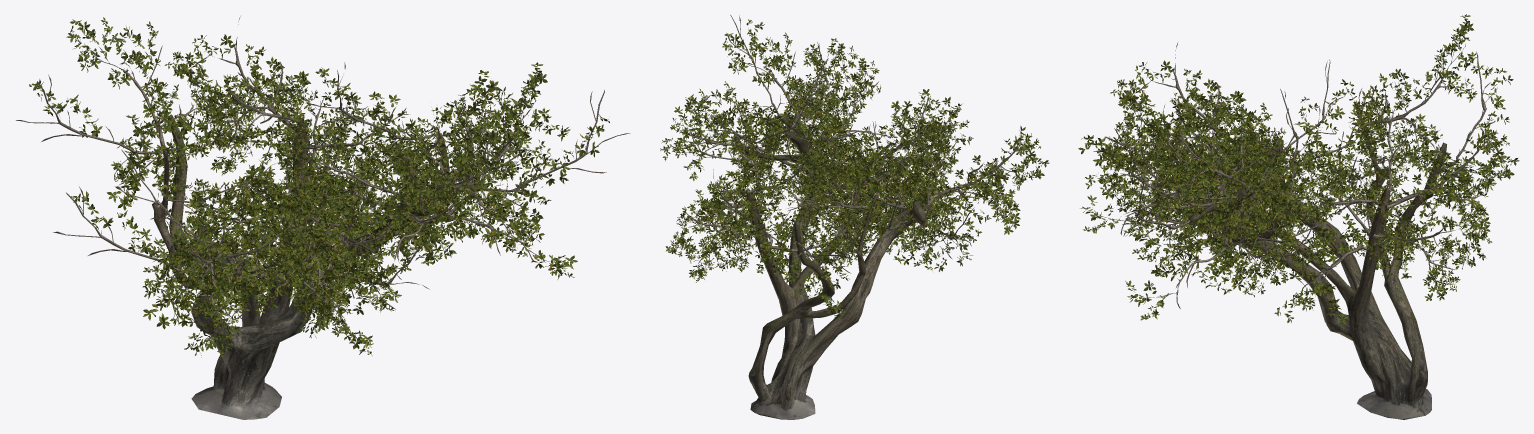
The model's file is island_tree_02_hero.glb.
3 views of the same model, side by side, from view 1: azimuth 30°, elevation 25°; view 2: azimuth 150°, elevation 25°; view 3: azimuth 270°, elevation 25° (orthographic). The views are drawn at different scales.
Visible parts, largest first — view 1: island_tree_02_LOD0; view 2: island_tree_02_LOD0; view 3: island_tree_02_LOD0.
Part boxes in pixels (x1,y1,x2,y2): island_tree_02_LOD0: [16, 16, 630, 419]; island_tree_02_LOD0: [660, 14, 1049, 419]; island_tree_02_LOD0: [1078, 14, 1519, 419].
Bounding box in the file's own units: 4.21 × 3.41 × 4.07.
Materials: 3 (3 with a texture image).
